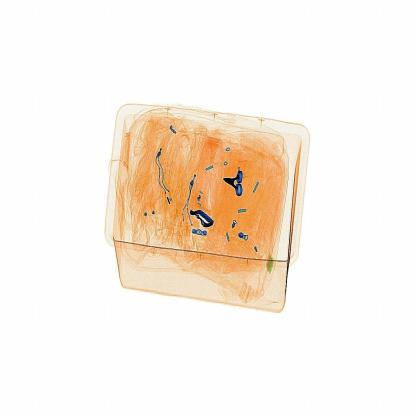gun: (218, 163, 253, 204)
